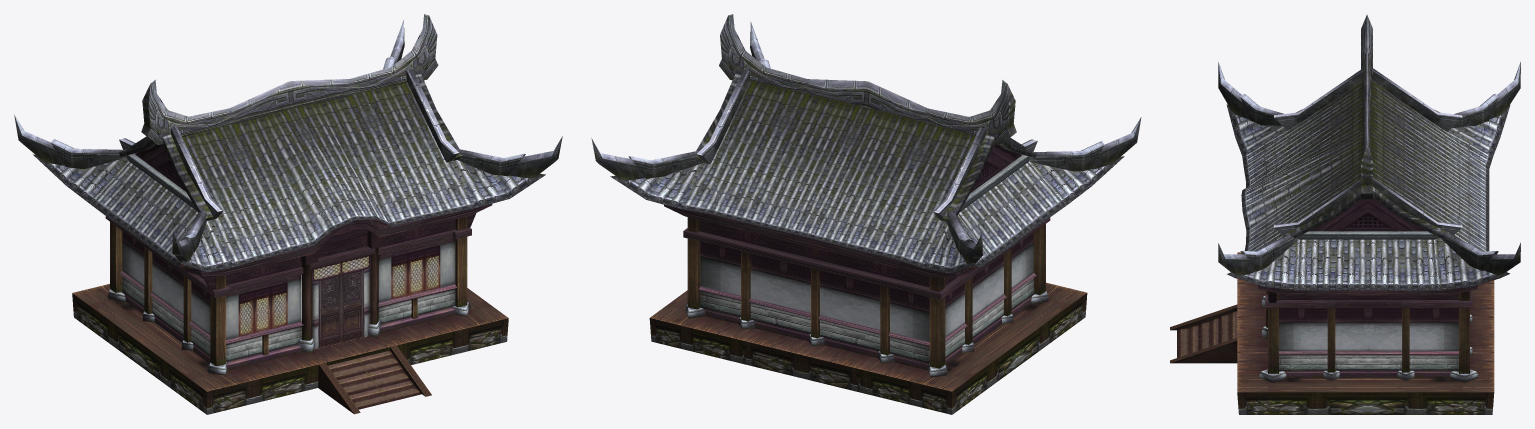
File: xcz_jz_04_LOD1.FBX
The picture shows the model from 3 angles, left to right: view 1: azimuth 30°, elevation 25°; view 2: azimuth 150°, elevation 25°; view 3: azimuth 270°, elevation 25°; orthographic projection. The views are drawn at different scales.
Visible parts, largest first — view 1: xcz_jz_04_LOD1; view 2: xcz_jz_04_LOD1; view 3: xcz_jz_04_LOD1.
Part boxes in pixels (<box>): xcz_jz_04_LOD1: <box>14,14,562,414</box>; xcz_jz_04_LOD1: <box>591,14,1141,414</box>; xcz_jz_04_LOD1: <box>1170,14,1520,414</box>.
Bounding box in the file's own units: 1952 × 1351 × 1598.
